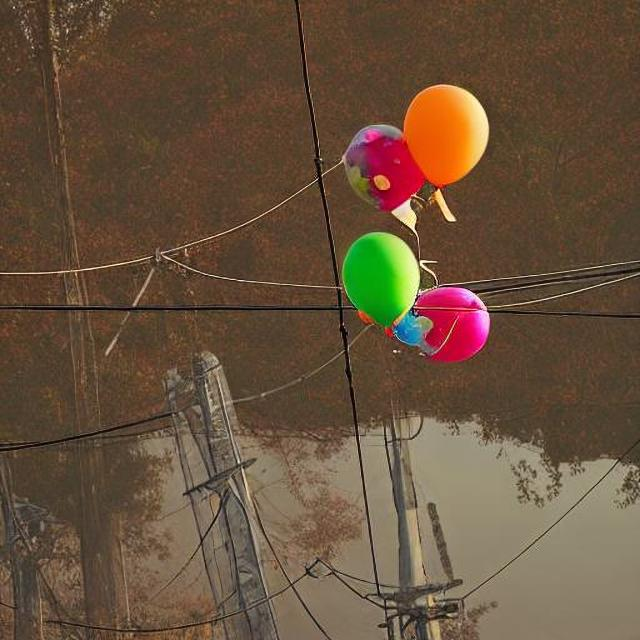balloon: (390, 67, 524, 203), (339, 226, 427, 344), (383, 278, 489, 364), (347, 112, 422, 211)
